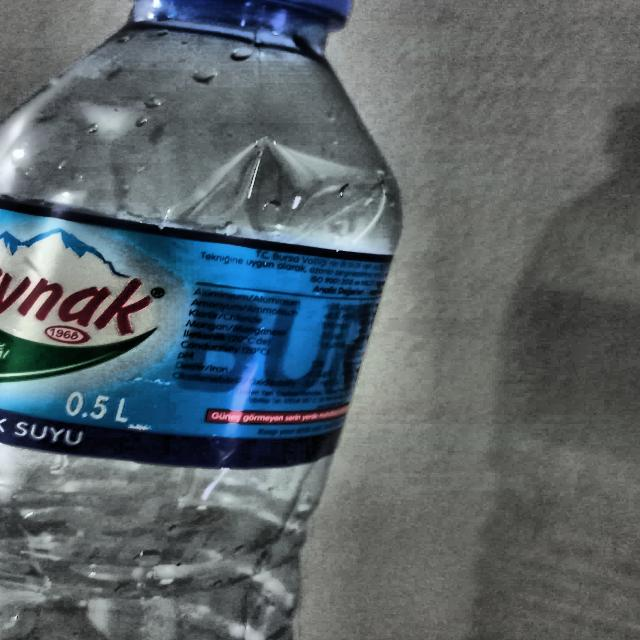plastic: (0, 0, 414, 640)
